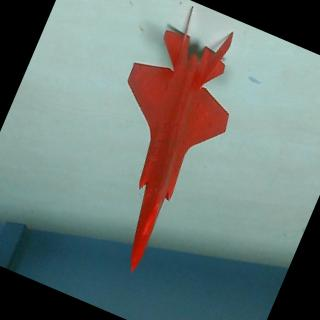Jet: (56, 0, 265, 283)
